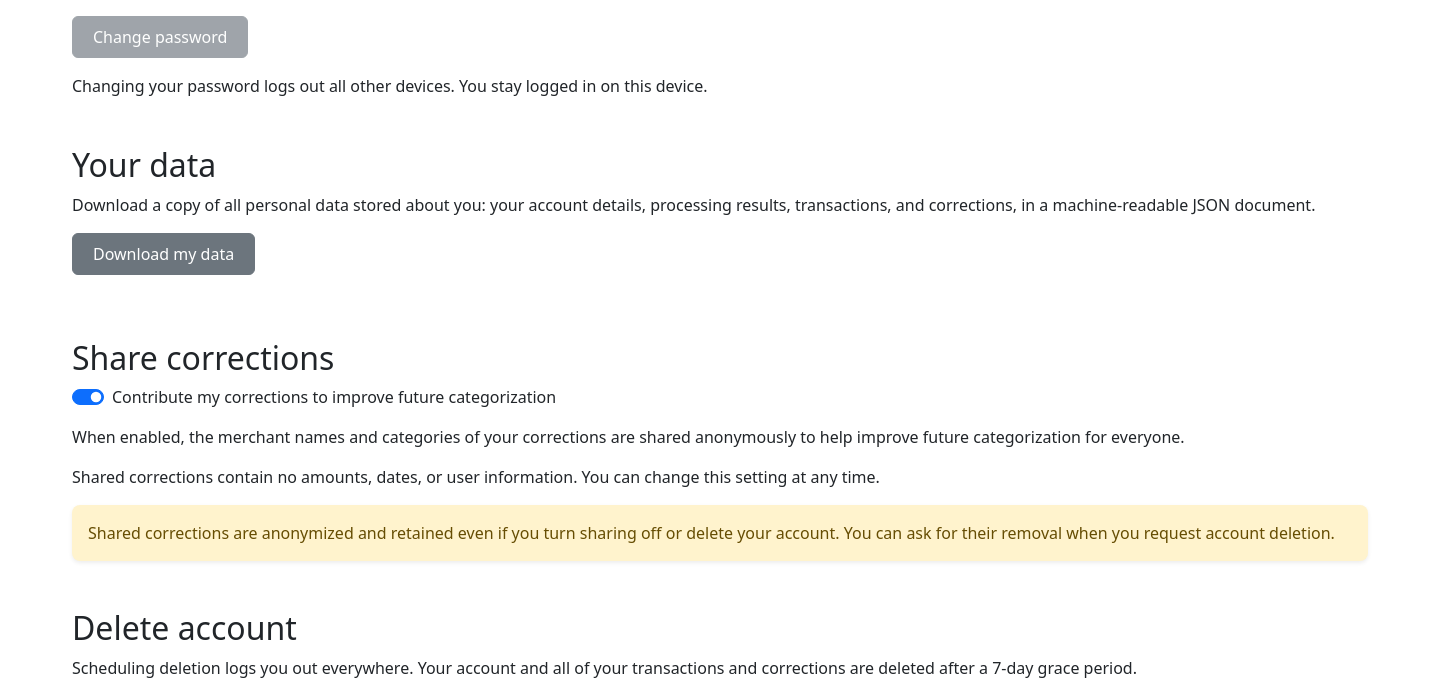
Scenario: Settings.vue › shows the revoked confirmation after disabling sharing
The image size is (1440, 697).
(page scrolled)
Click the switch with id "optInSharingSwitch": (88, 397) [72, 389, 104, 405]
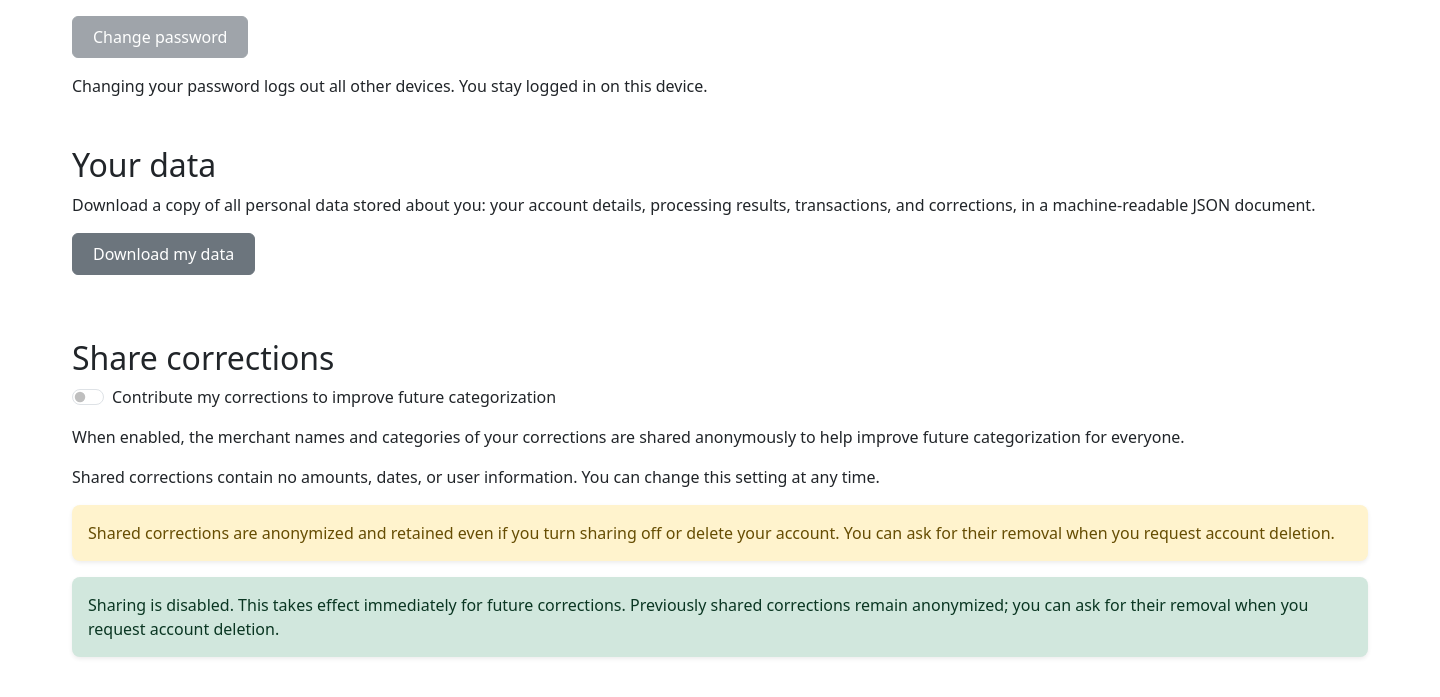
Expected: the text "Sharing is disabled. This takes effect immediately for future corrections. Previously shared corrections remain anonymized; you can ask for their removal when y" is shown, [88, 594, 1308, 640]
